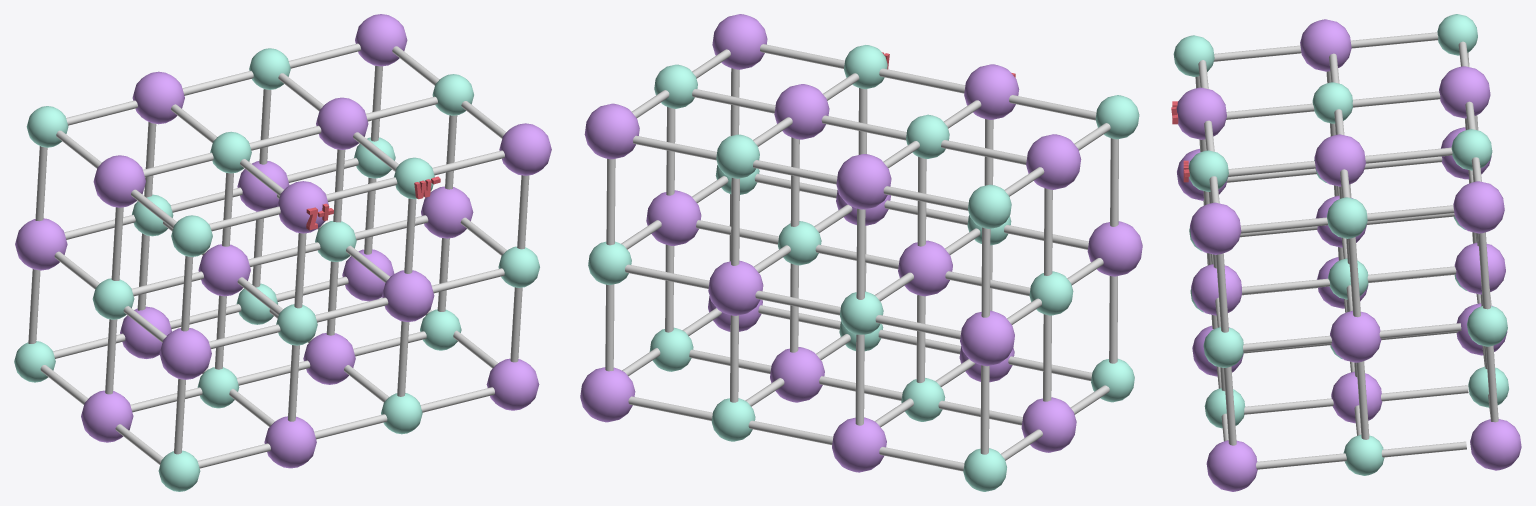
Rendered from asset.glb.
The picture shows the model from 3 angles, left to right: view 1: azimuth 30°, elevation 25°; view 2: azimuth 150°, elevation 25°; view 3: azimuth 270°, elevation 25°; orthographic projection. The views are drawn at different scales.
Visible parts, largest first — view 1: 3DGeom-2, 3DGeom-3, 3DGeom-4, 3DGeom-1; view 2: 3DGeom-2, 3DGeom-3, 3DGeom-4; view 3: 3DGeom-3, 3DGeom-2, 3DGeom-4.
Part boxes in pixels (<box>): 3DGeom-2: <box>28,43,529,468</box>; 3DGeom-3: <box>15,14,551,468</box>; 3DGeom-4: <box>14,48,539,491</box>; 3DGeom-1: <box>306,176,440,230</box>; 3DGeom-2: <box>605,44,1118,471</box>; 3DGeom-3: <box>580,14,1142,472</box>; 3DGeom-4: <box>588,45,1139,491</box>; 3DGeom-3: <box>1176,19,1521,491</box>; 3DGeom-2: <box>1195,32,1498,469</box>; 3DGeom-4: <box>1173,14,1508,475</box>.
Bounding box in the file's own units: 0.4383 × 0.3187 × 0.3312.
